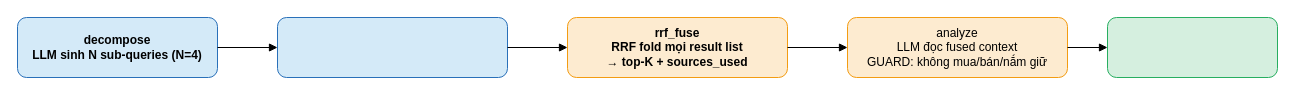
Some shapes in this 1295 by 95 pixel diagram are drawn without their labels. Here are the shapes that lost their labels. From the top down, the box of each, then its label:
(276, 16, 508, 78): multi_retrieve parallel: BM25+vector hybrid + news + Postgres + Tavily
(1106, 16, 1278, 78): report format + trích nguồn
